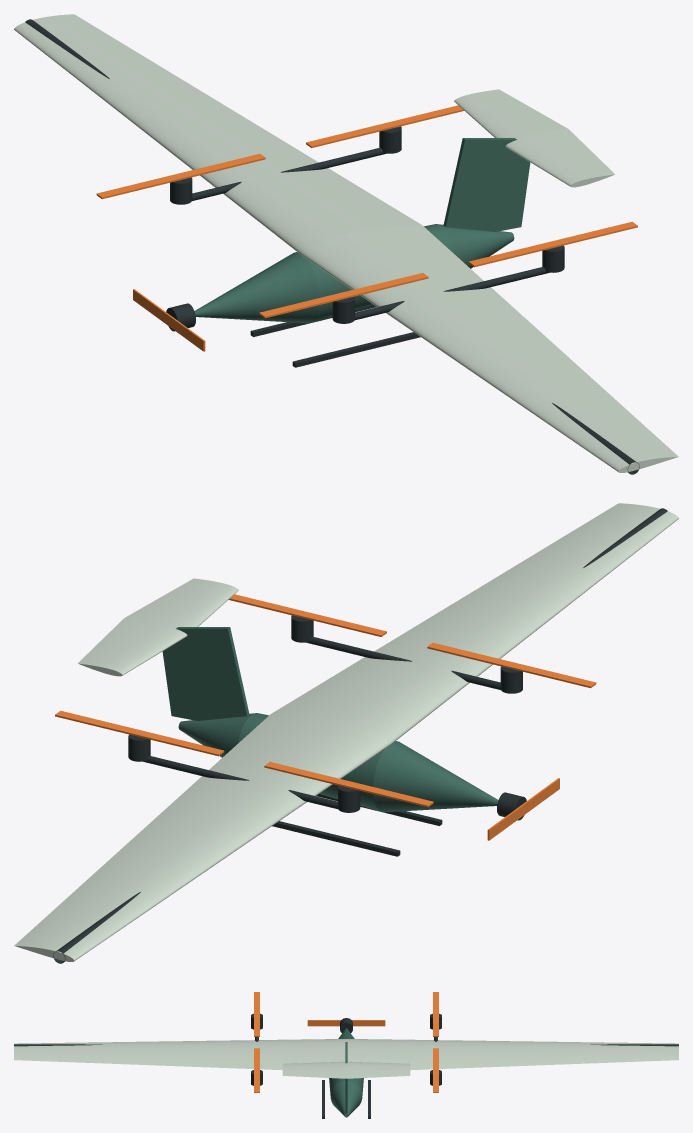
3 views of the same model, one above another, from view 1: azimuth 30°, elevation 25°; view 2: azimuth 150°, elevation 25°; view 3: azimuth 270°, elevation 25° (orthographic). The views are drawn at different scales.
Parts seen in each view (by area): view 1: wing-1, wing1, fuselage, fin, tail-1, tail1, prop_-1_180.0, prop_-1_700.0, prop_1_180.0, prop_1_700.0, boom1, boom-1 (+3 smaller); view 2: wing1, wing-1, fuselage, fin, tail1, tail-1, prop_1_180.0, prop_1_700.0, prop_-1_180.0, prop_-1_700.0, boom-1, boom1 (+3 smaller); view 3: wing-1, wing1, fuselage, tail-1, tail1, cruise_prop, wing_spar, prop_-1_180.0, prop_-1_700.0, prop_1_180.0, prop_1_700.0.
Part boxes in pixels (x1,y1,x2,y2): wing-1: (301,225,678,472); wing1: (14,14,421,254); fuselage: (194,224,514,323); fin: (443,138,530,231); tail-1: (505,129,614,187); tail1: (454,89,567,138); prop_-1_180.0: (259,273,428,318); prop_-1_700.0: (468,221,637,267); prop_1_180.0: (96,153,265,199); prop_1_700.0: (306,105,464,147); boom1: (192,147,386,200); boom-1: (355,267,549,320); wing1: (14,714,391,961); wing-1: (271,503,678,743); fuselage: (178,713,498,812); fin: (162,627,249,720); tail1: (78,618,187,676); tail-1: (125,578,238,627); prop_1_180.0: (264,762,433,807); prop_1_700.0: (55,710,224,756); prop_-1_180.0: (427,642,596,688); prop_-1_700.0: (228,594,386,636); boom-1: (306,636,500,689); boom1: (143,756,337,809); wing-1: (14,1039,346,1070); wing1: (346,1039,678,1070); fuselage: (329,1028,363,1117); tail-1: (282,1061,346,1078); tail1: (346,1061,410,1078); cruise_prop: (307,1020,385,1026); wing_spar: (14,1044,678,1046); prop_-1_180.0: (254,992,259,1036); prop_-1_700.0: (254,1048,259,1092); prop_1_180.0: (433,992,438,1036); prop_1_700.0: (433,1048,438,1092).
Size of the model in its own units: 994 by 394 by 2600.
